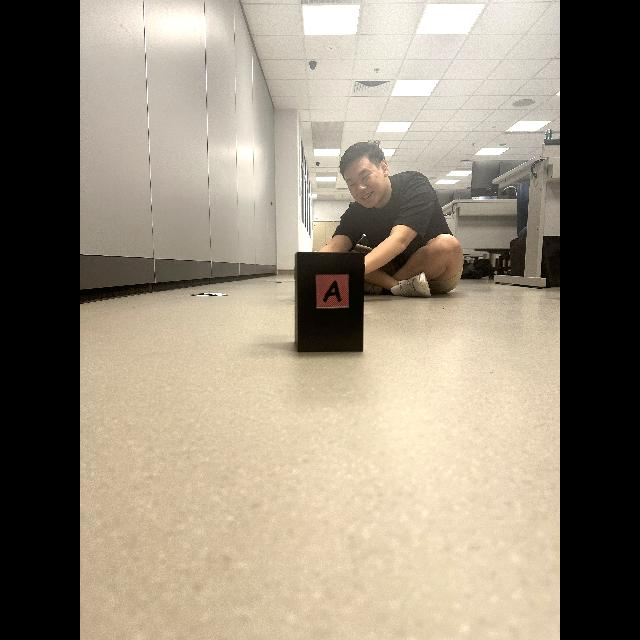A: (323, 280, 341, 302)
